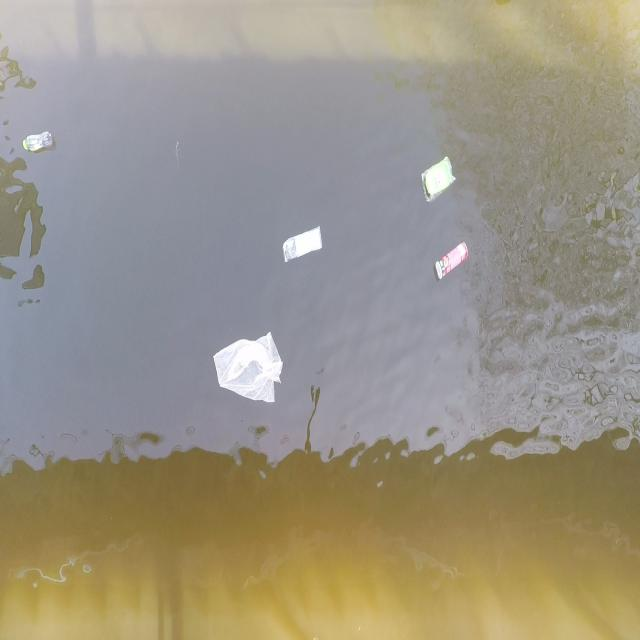Autre plastique: (275, 218, 329, 269), (415, 149, 459, 208)
Bouteille plastique: (18, 127, 59, 158)
Sac plastique: (206, 330, 287, 411)
